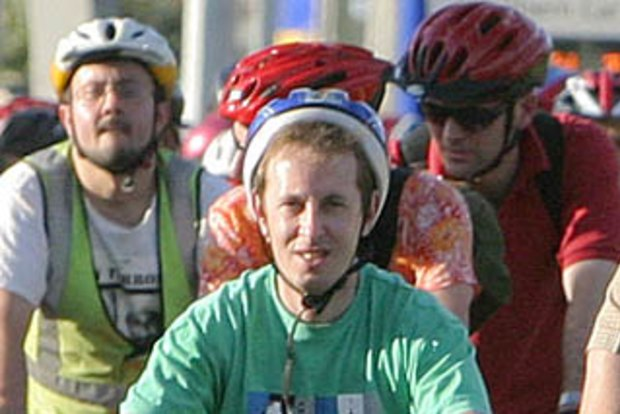helmet: (410, 3, 548, 177), (52, 17, 180, 171)
